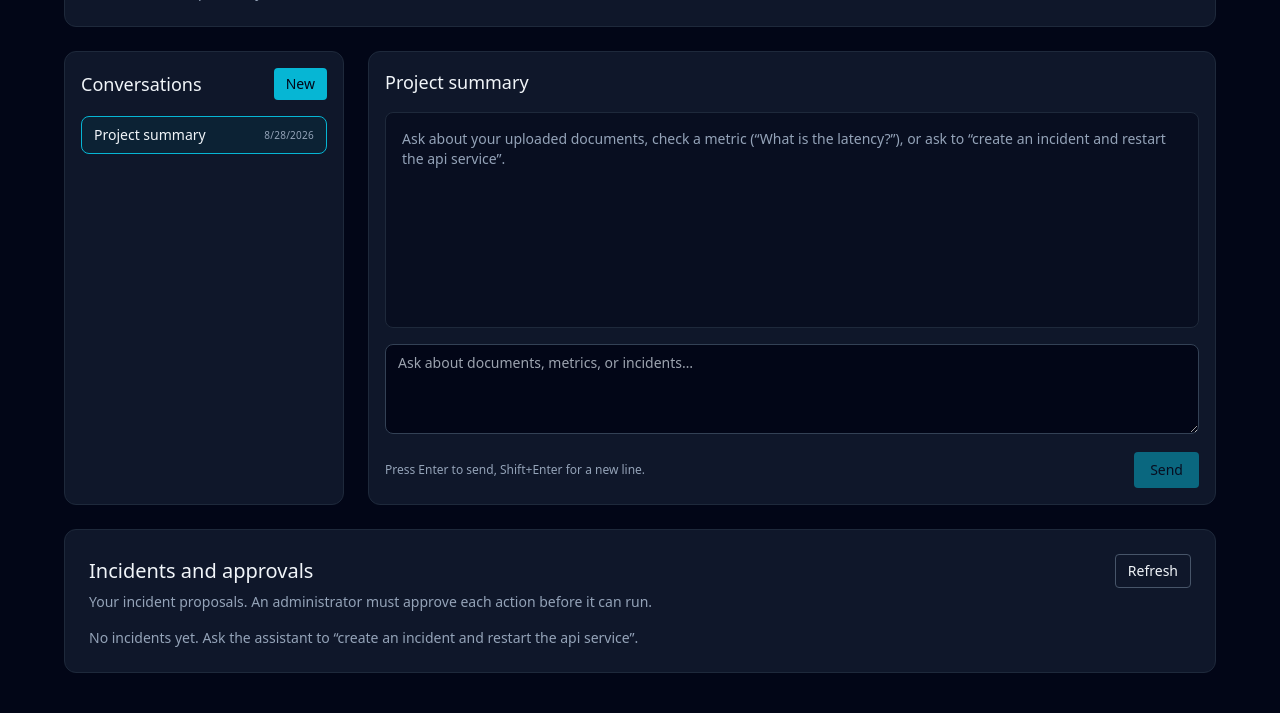
Scenario: HomePage › does not offer approval controls to analysts
This screenshot has width=1280, height=713.
(page scrolled)
expect the heading "Project summary" is shown: met, box [385,70,529,94]
Type "Create an incident and restart the api service" into the text box named "Chat message". click: (792, 389)
box: [385,344,1199,434]
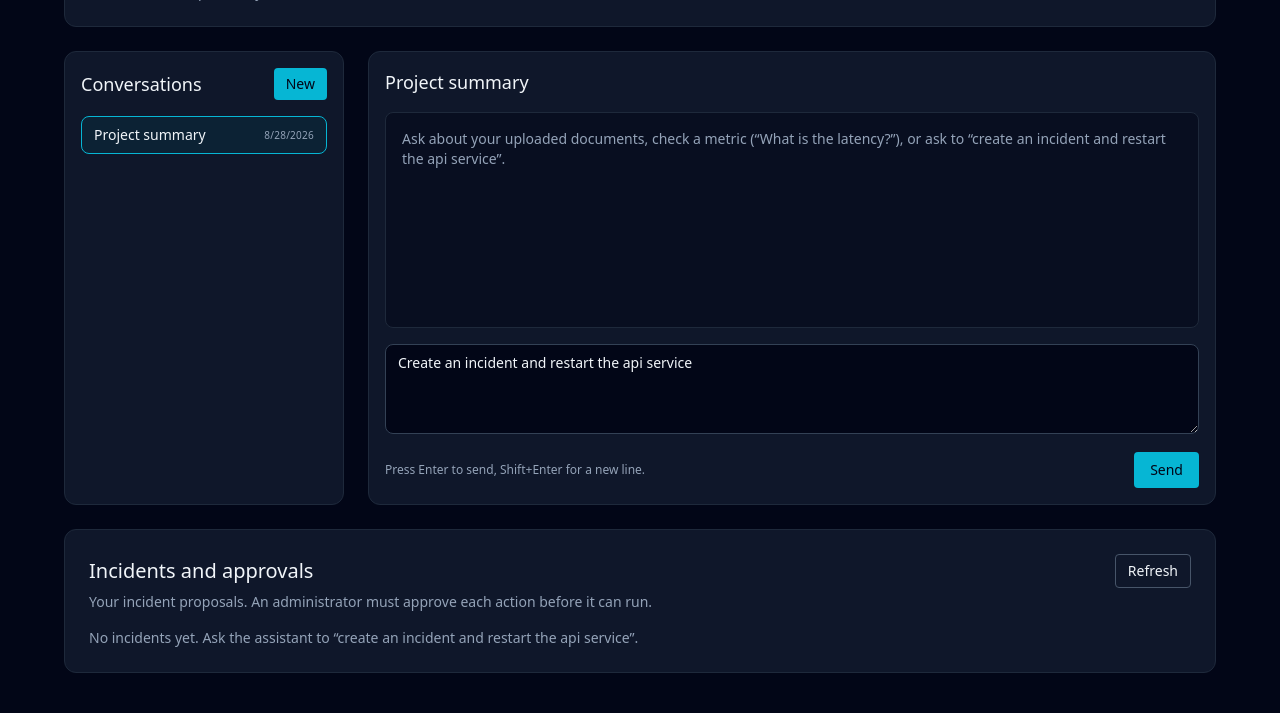
Click the button "Send". click: (1167, 470)
box: [1134,452,1199,488]
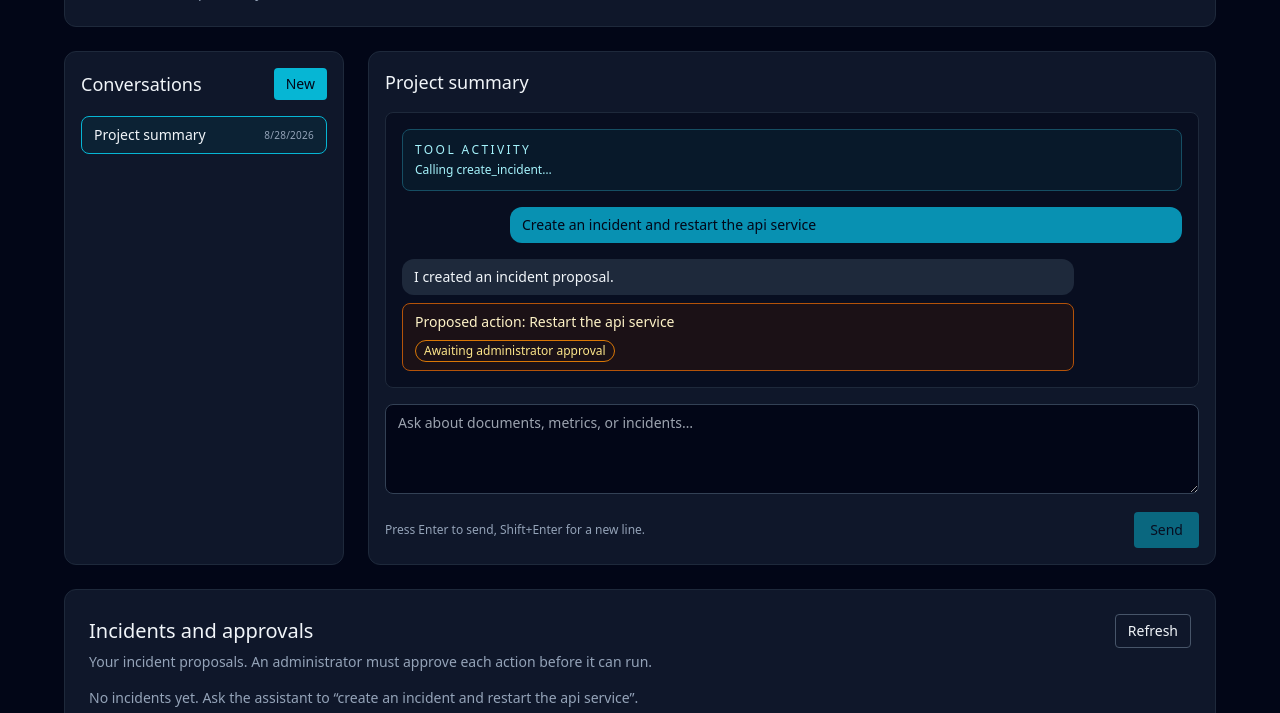
expect the text "Awaiting administrator approval" is shown: met, box [415,340,615,362]
